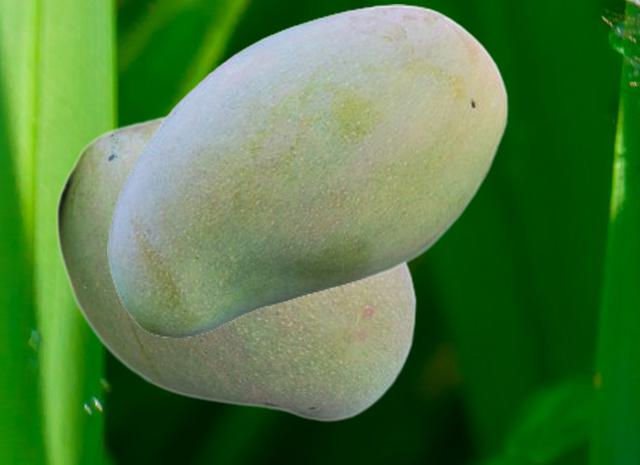green_mango: (107, 4, 508, 336), (55, 112, 416, 421)
